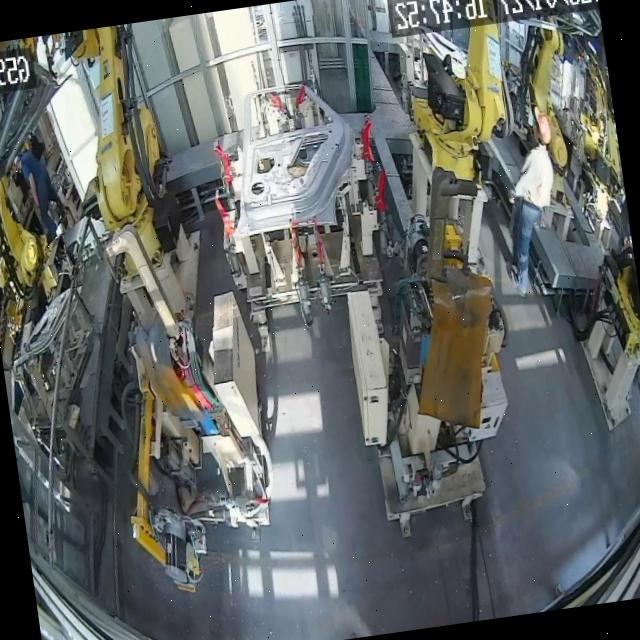Person: (486, 108, 574, 300), (15, 134, 70, 246)
